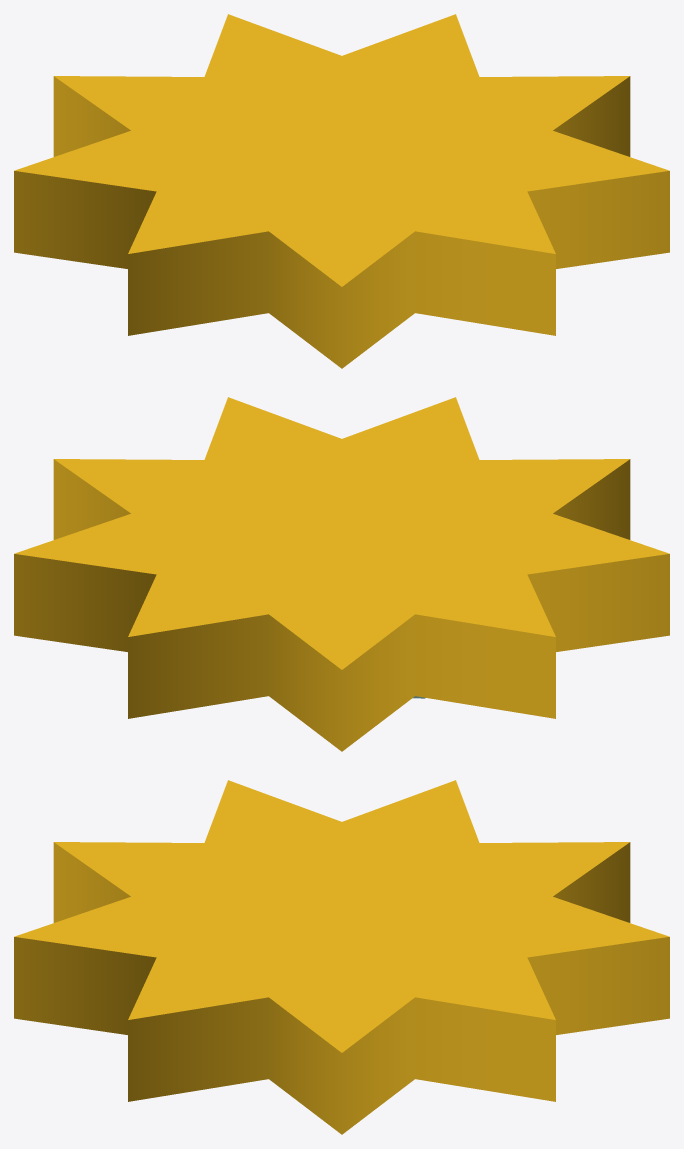
Rendered from Light_sun.fbx.
The picture shows the model from 3 angles, top to bottom: view 1: azimuth 30°, elevation 25°; view 2: azimuth 150°, elevation 25°; view 3: azimuth 270°, elevation 25°; orthographic projection.
Parts seen in each view (by area): view 1: Cylinder001; view 2: Cylinder001; view 3: Cylinder001.
Part boxes in pixels (x1,y1,x2,y2): Cylinder001: (14, 14, 669, 368); Cylinder001: (14, 397, 669, 751); Cylinder001: (14, 780, 669, 1134).
Bounding box in the file's own units: 48.25 × 11.18 × 48.99.
